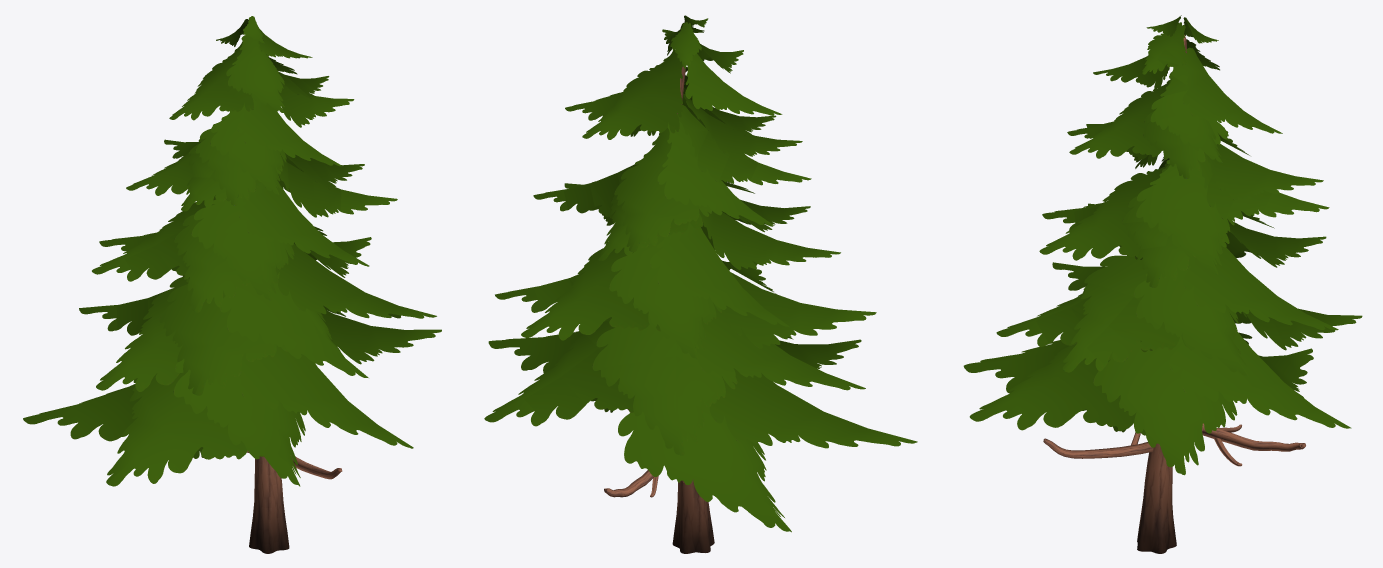
The model's file is Pine_2.gltf.
The picture shows the model from 3 angles, left to right: view 1: azimuth 30°, elevation 25°; view 2: azimuth 150°, elevation 25°; view 3: azimuth 270°, elevation 25°; orthographic projection. The views are drawn at different scales.
Parts seen in each view (by area): view 1: Pine_2; view 2: Pine_2; view 3: Pine_2.
Part boxes in pixels (left/top/right/bottom): Pine_2: left=23, top=16, right=441, bottom=553; Pine_2: left=484, top=15, right=917, bottom=553; Pine_2: left=963, top=15, right=1362, bottom=553.
Size of the model in its own units: 5.73 by 7.38 by 5.22.
2 materials, 2 textured.
